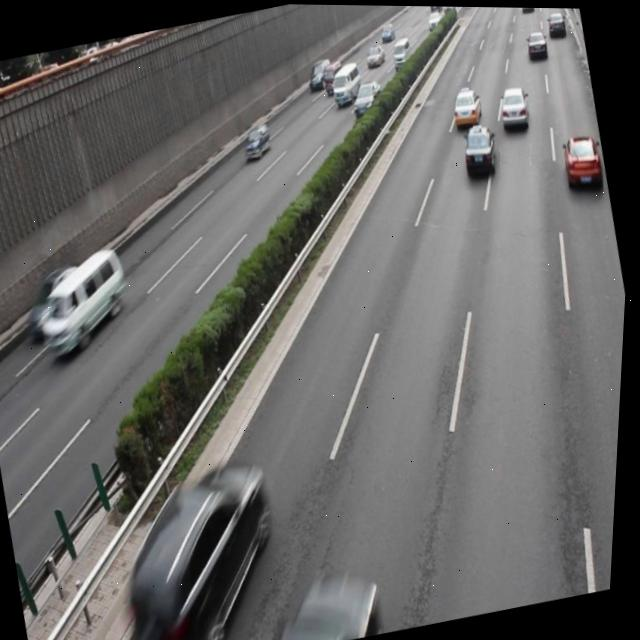car: (108, 454, 299, 640), (19, 260, 95, 338), (557, 127, 607, 195), (458, 120, 499, 174), (494, 81, 531, 130), (447, 84, 484, 129), (347, 77, 386, 119), (240, 120, 275, 160)
truck: (29, 242, 141, 357), (326, 59, 365, 106)
